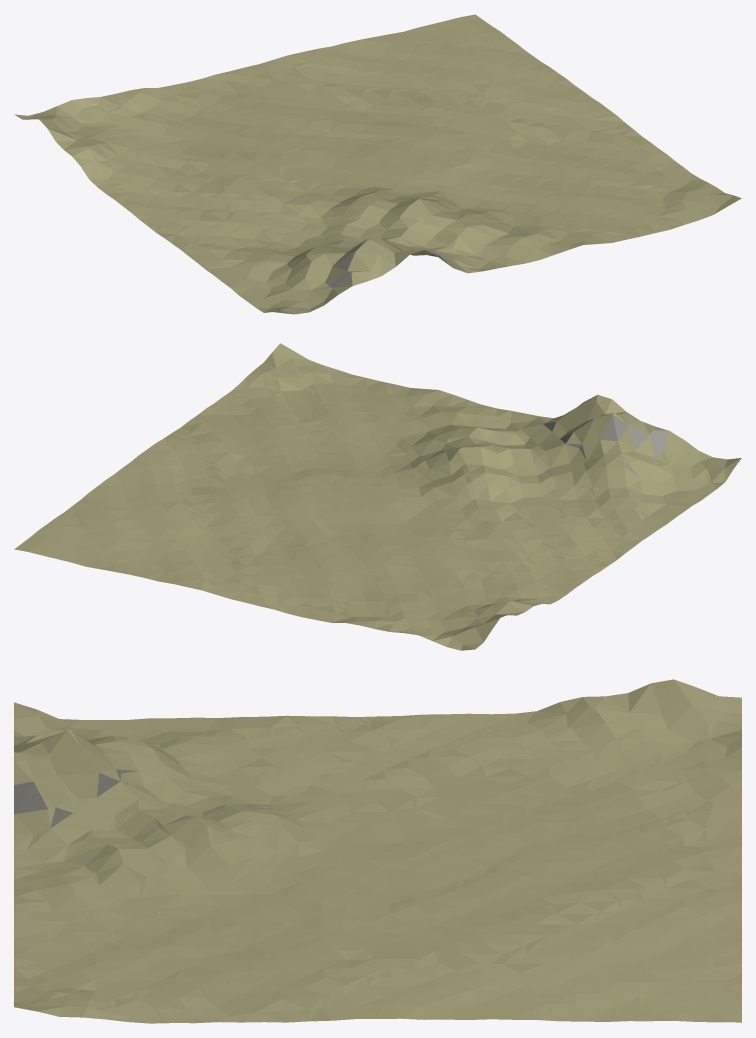
The model's file is Ground_-2_-3.glb.
3 renders of one model, top to bottom at view 1: azimuth 30°, elevation 25°; view 2: azimuth 150°, elevation 25°; view 3: azimuth 270°, elevation 25°, orthographic. The views are drawn at different scales.
Visible parts, largest first — view 1: Ground_-2_-3; view 2: Ground_-2_-3; view 3: Ground_-2_-3.
Boxes of the visible parts, <box> form: Ground_-2_-3: <box>14,14,741,314</box>; Ground_-2_-3: <box>14,343,741,650</box>; Ground_-2_-3: <box>14,679,741,1023</box>.
Size of the model in its own units: 768 by 72.53 by 768.
